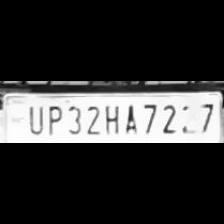2: (156, 100, 178, 134), (83, 102, 101, 134)
3: (64, 102, 82, 136)
7: (137, 100, 157, 134), (194, 99, 214, 133)
A: (122, 100, 139, 134)
H: (100, 100, 119, 134)
P: (43, 102, 63, 136)
U: (24, 102, 42, 134)
